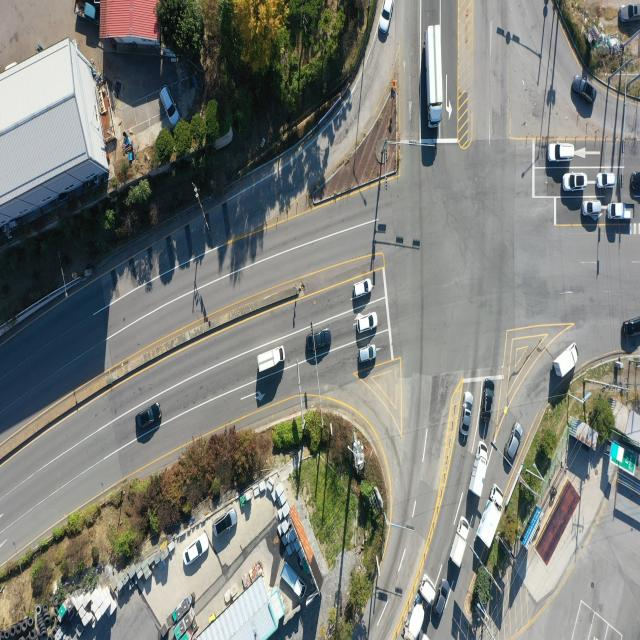car: (503, 423, 523, 465), (185, 536, 211, 568), (571, 73, 596, 104), (159, 84, 177, 125), (480, 377, 496, 422), (434, 579, 451, 620), (135, 406, 161, 432), (460, 392, 473, 444), (308, 330, 334, 355), (213, 508, 236, 536), (548, 142, 576, 163), (356, 312, 378, 334), (563, 172, 587, 192), (378, 0, 392, 33), (353, 278, 373, 300), (619, 3, 640, 22), (356, 345, 376, 364), (622, 317, 640, 336), (596, 172, 616, 188), (584, 201, 603, 217)
medium_truck: (425, 22, 446, 126), (405, 575, 437, 640), (478, 483, 507, 548)
small_truck: (468, 441, 490, 498), (448, 518, 468, 571), (554, 343, 578, 380), (281, 563, 305, 600), (258, 345, 286, 376), (72, 0, 97, 24), (610, 202, 636, 222)
